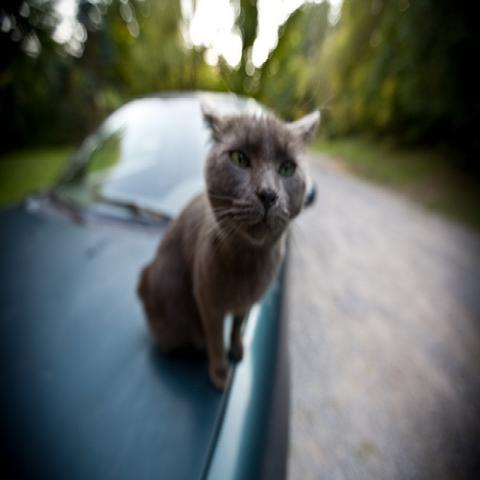car: (4, 94, 296, 469)
